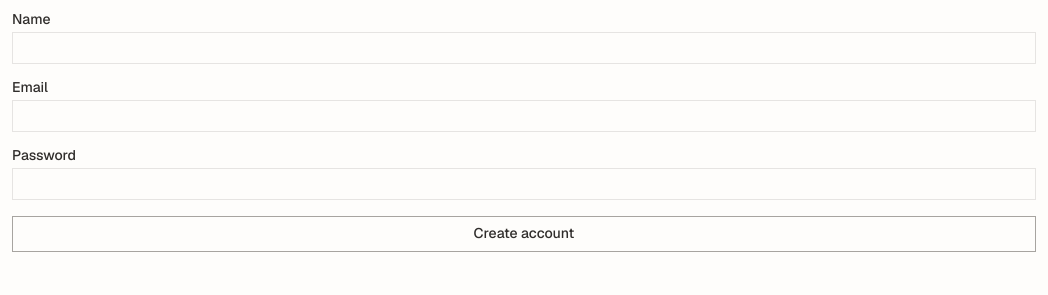
<SignupForm> › rejects a short password client-side
Type "Alice" into the field labelled "Name".
click(524, 48); type("Alice")  # box [12,32,1036,64]
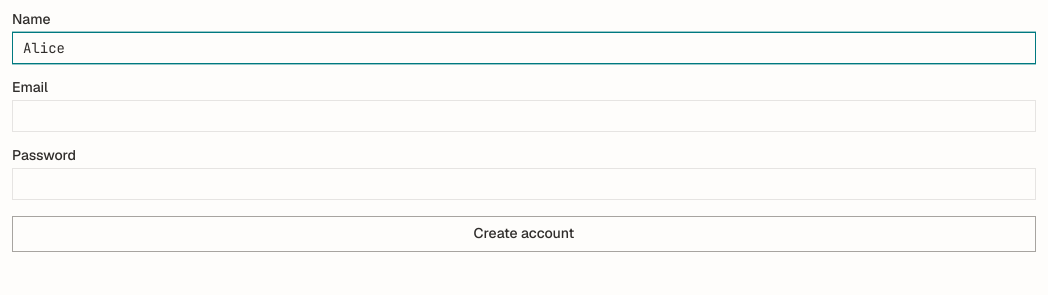
Type "alice@example.com" into the field labelled "Email".
click(524, 116); type("alice@example.com")  # box [12,100,1036,132]
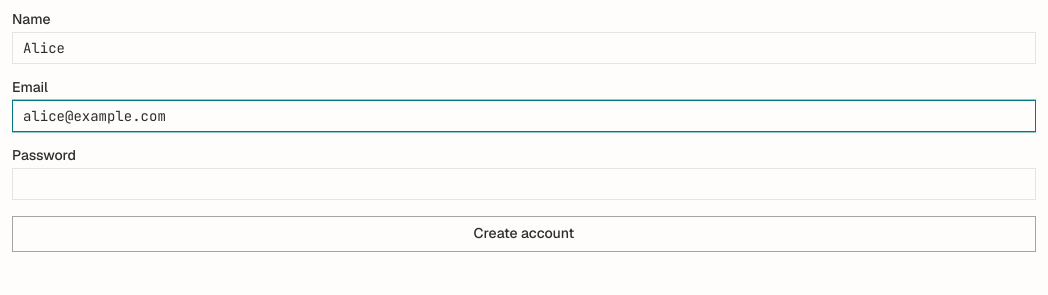
Type "short" into the password field labelled "Password".
click(524, 184); type("short")  # box [12,168,1036,200]
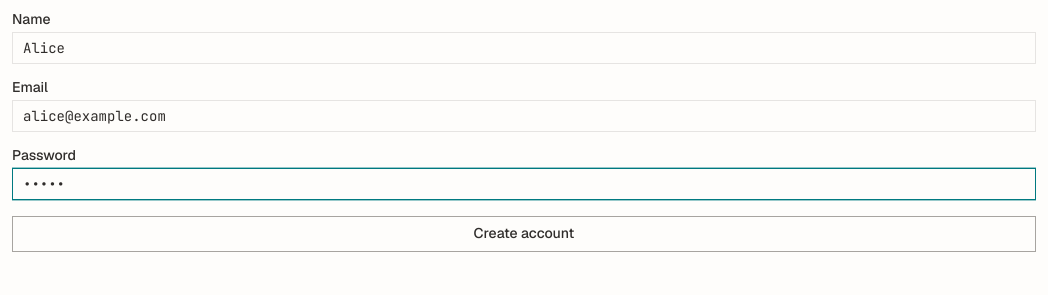
Click the button "Create account".
click(524, 234)  # box [12,216,1036,252]
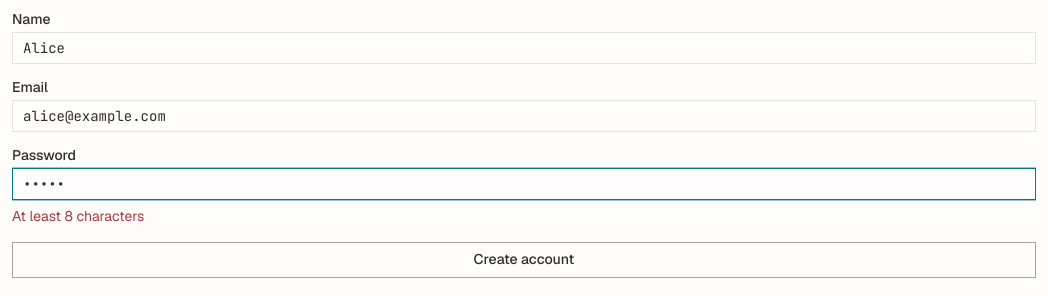
expect the text "At least 8 characters" is shown: met, box [12,207,144,225]
